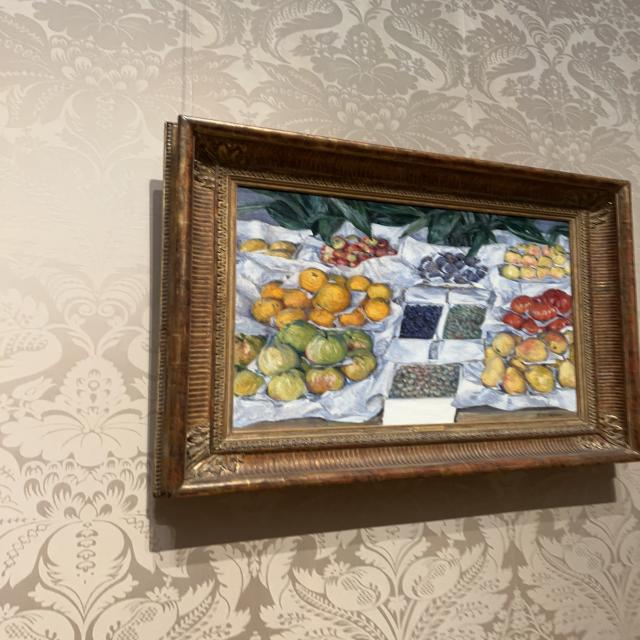fruits: (230, 187, 580, 433)
